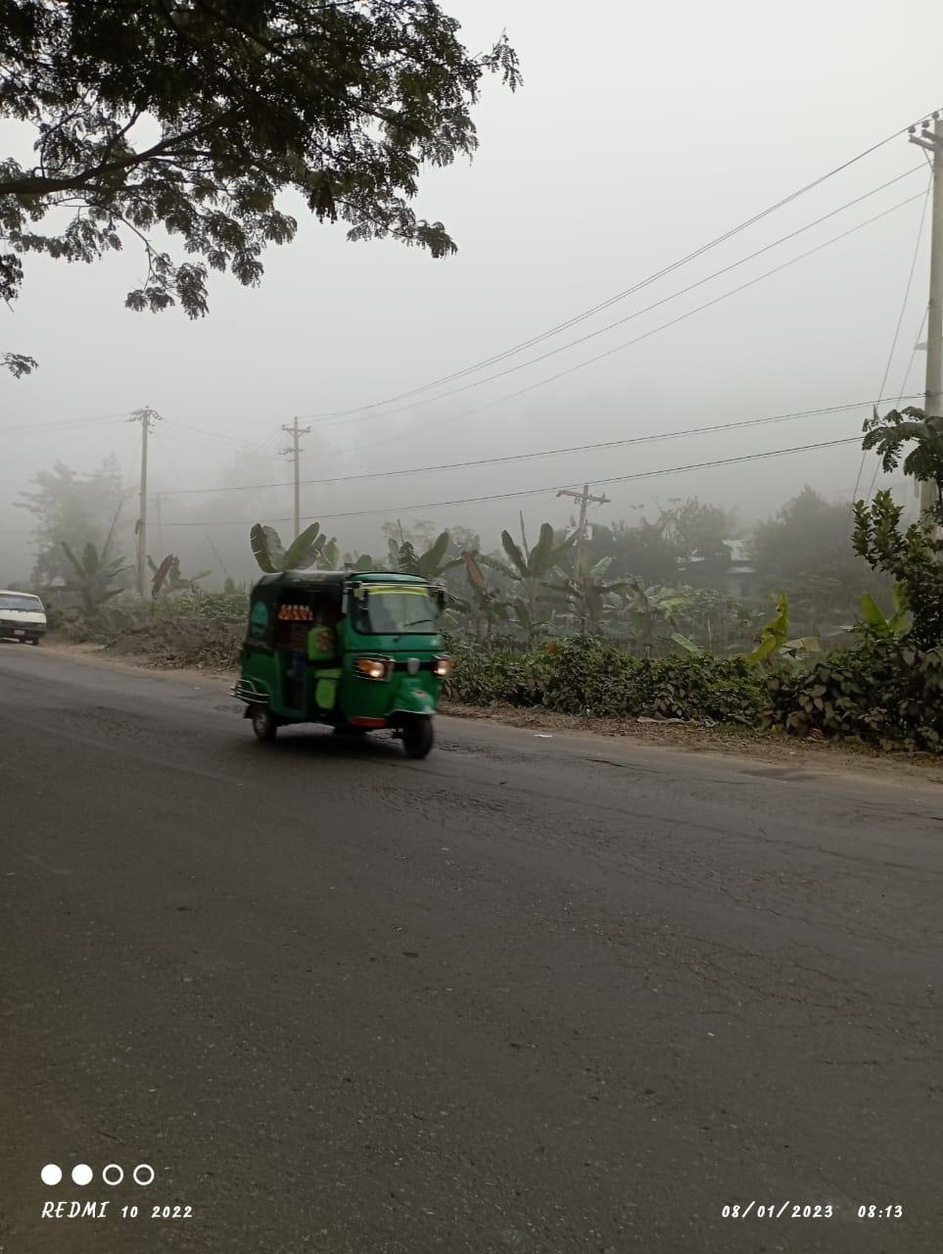Car: (2, 576, 52, 640)
